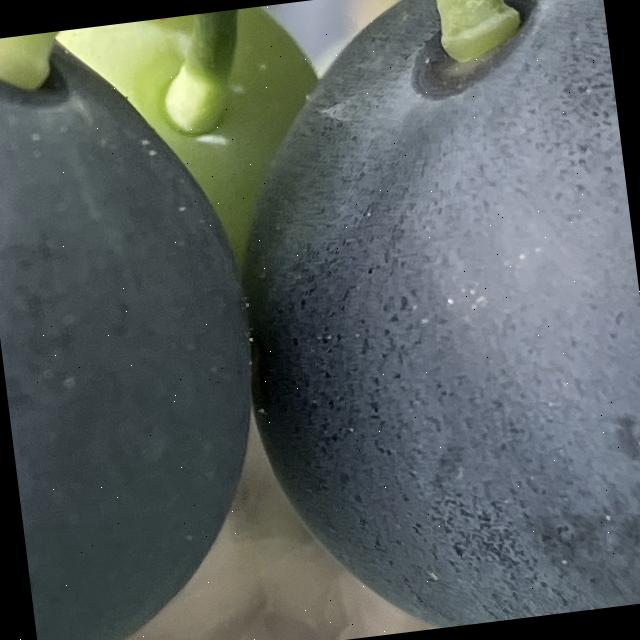Blueberries: (206, 0, 640, 640), (0, 10, 292, 640)
